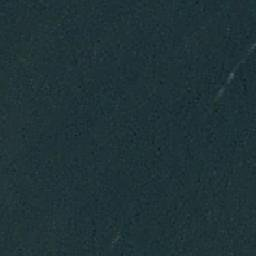debris: (216, 56, 234, 96)
